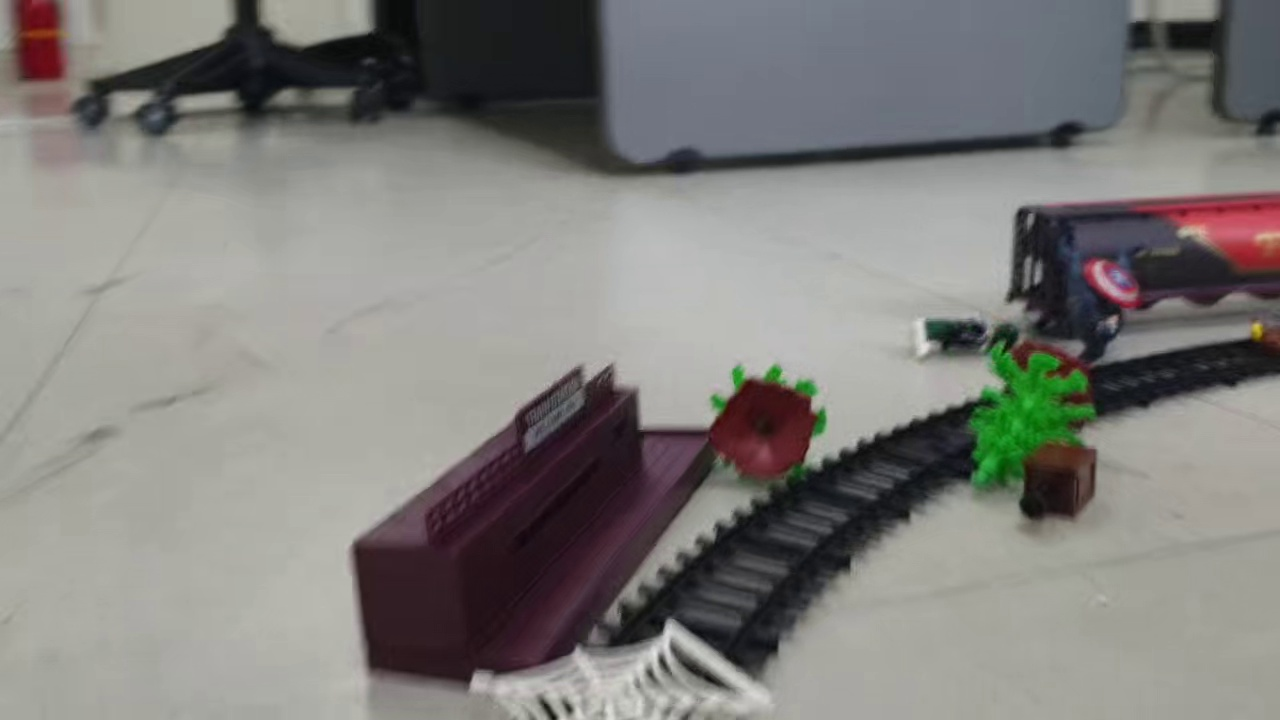box: (1018, 443, 1102, 522)
people: (1051, 239, 1142, 363), (909, 313, 1027, 361)
tree: (967, 343, 1094, 493), (708, 363, 830, 488)
web: (469, 616, 771, 720)
